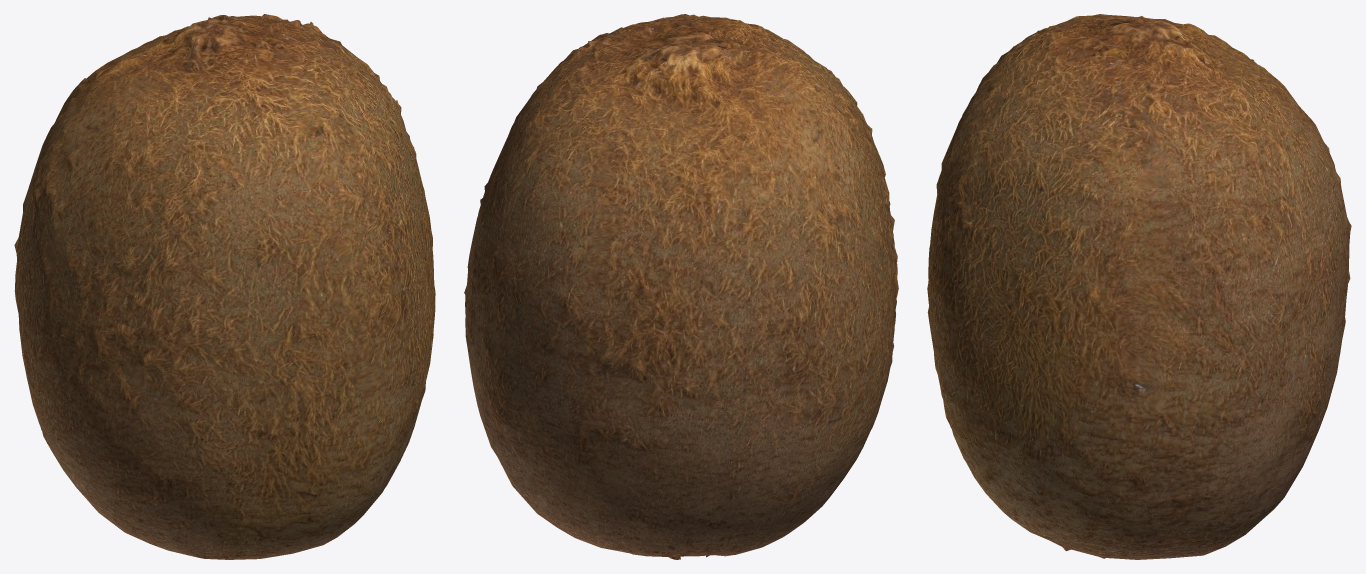
File: food_kiwi_01_1k.gltf
The picture shows the model from 3 angles, left to right: view 1: azimuth 30°, elevation 25°; view 2: azimuth 150°, elevation 25°; view 3: azimuth 270°, elevation 25°; orthographic projection.
Parts seen in each view (by area): view 1: food_kiwi_01; view 2: food_kiwi_01; view 3: food_kiwi_01.
Boxes of the visible parts, box(x1,y1,x2,y2) form: food_kiwi_01: box(14, 14, 435, 559); food_kiwi_01: box(464, 14, 898, 559); food_kiwi_01: box(927, 14, 1351, 559).
Size of the model in its own units: 0.0695 by 0.0901 by 0.0686.
1 material, 1 textured.
